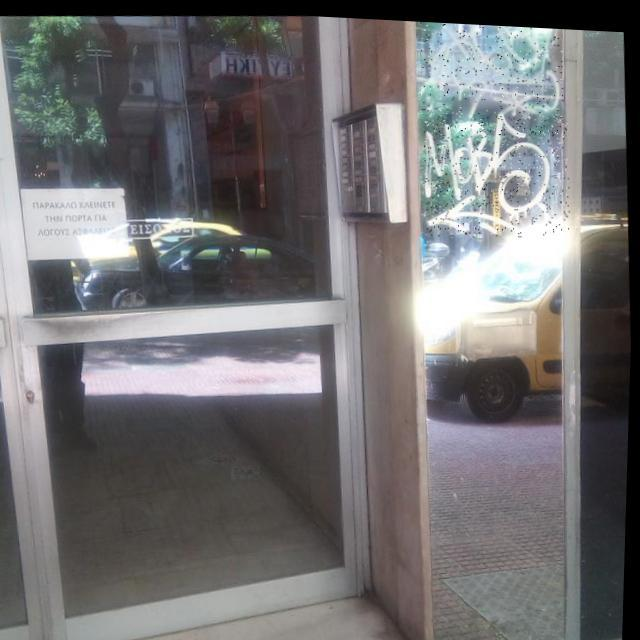-: (422, 104, 574, 238), (418, 17, 566, 115)
